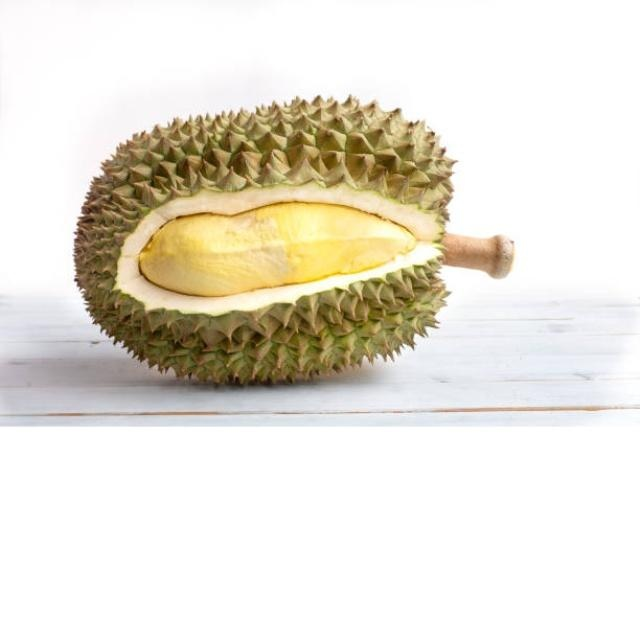sau_rieng: (62, 86, 500, 412)
